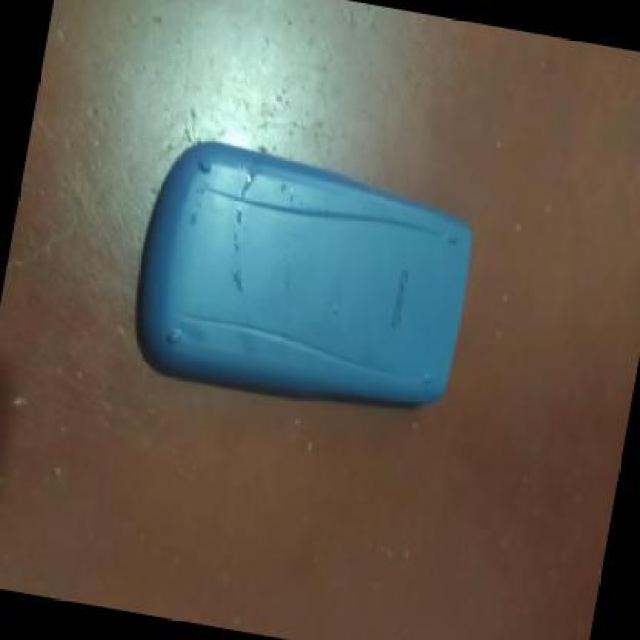Calculator: (122, 134, 488, 438)
